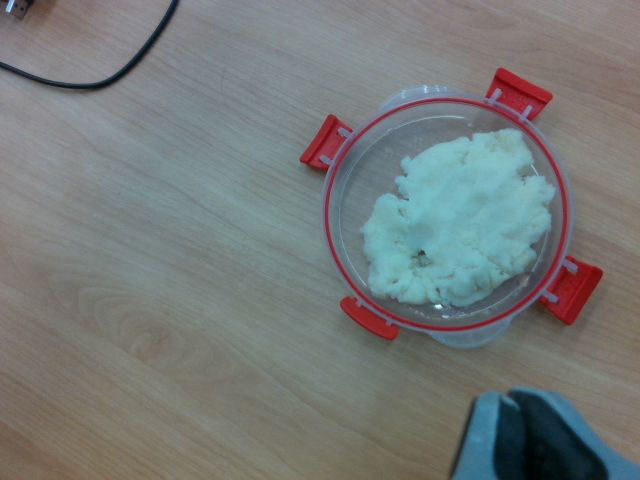mashed_potato: (366, 129, 555, 304)
